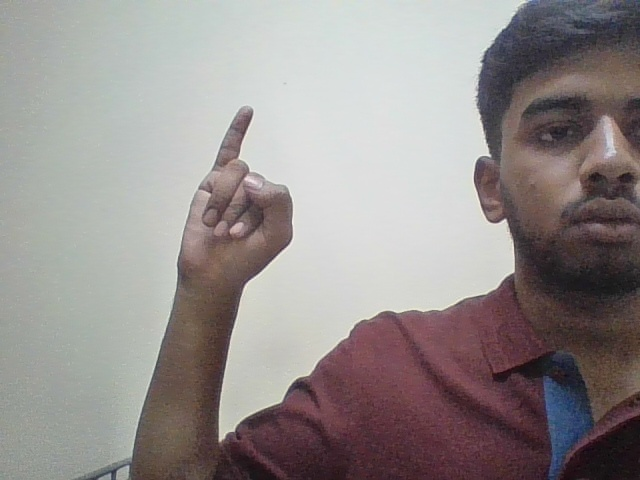I: (165, 78, 302, 320)
